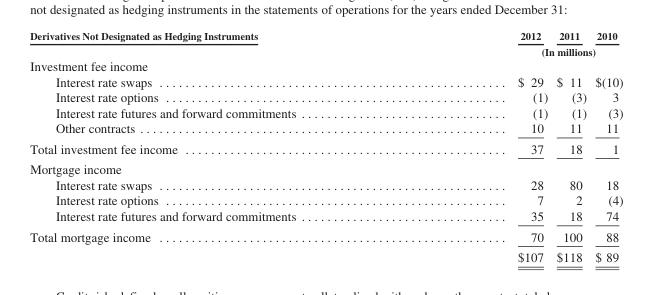table: (29, 29, 622, 264)
table column: (29, 29, 406, 264), (406, 29, 551, 264), (551, 29, 590, 264), (590, 29, 622, 264)
table column header: (29, 29, 622, 57)
table projected row header: (29, 158, 622, 176), (29, 57, 622, 73)
table row: (29, 225, 622, 246), (29, 138, 622, 158), (29, 119, 622, 138), (29, 158, 622, 176), (29, 207, 622, 225), (29, 246, 622, 264), (29, 57, 622, 73), (29, 88, 622, 104), (29, 176, 622, 192), (29, 73, 622, 88), (29, 104, 622, 119), (29, 192, 622, 207), (29, 29, 622, 43), (29, 43, 622, 57)
table spanning cell: (29, 29, 406, 57), (406, 43, 622, 57)
